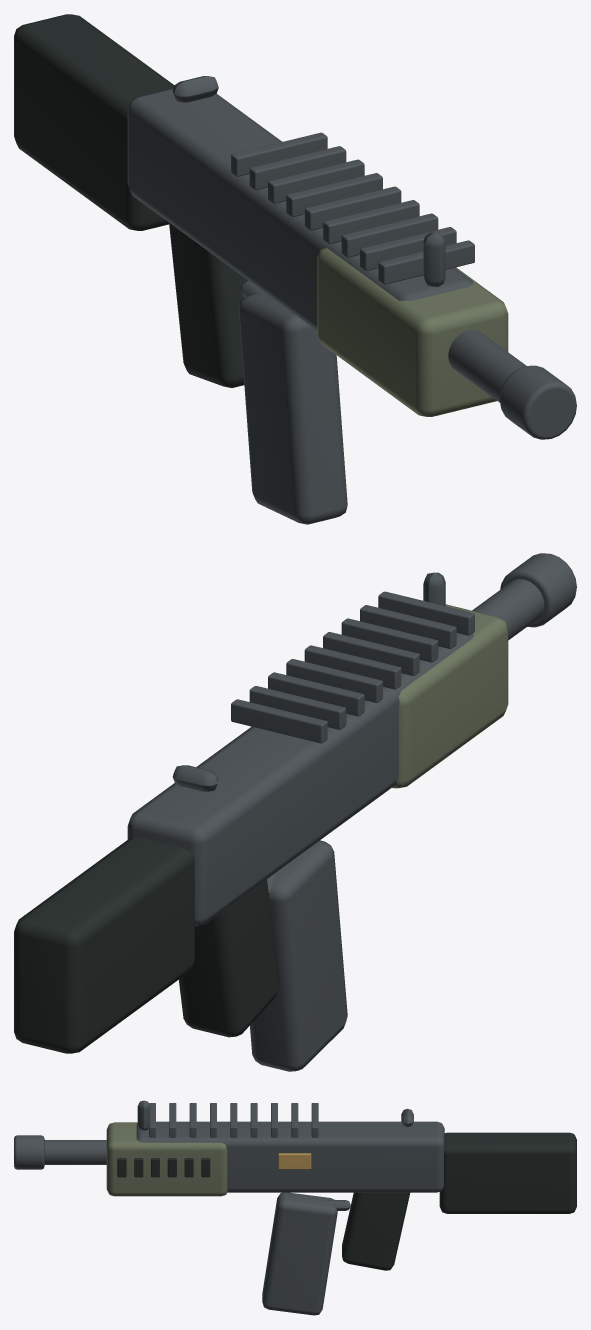
Rendered from carbine.glb.
3 renders of one model, top to bottom at view 1: azimuth 30°, elevation 25°; view 2: azimuth 150°, elevation 25°; view 3: azimuth 270°, elevation 25°, orthographic. The views are drawn at different scales.
Parts seen in each view (by area): view 1: receiver, stock, magazine, handguard, grip, muzzle, barrel, rail_2, rail_4, rail_7, rail_8, rail_3 (+6 smaller); view 2: receiver, stock, magazine, handguard, grip, muzzle, rail_8, barrel, rail_2, rail_7, rail_4, rail_6 (+6 smaller); view 3: receiver, stock, magazine, handguard, grip, barrel, muzzle, ejection_port, front_sight.
Part boxes in pixels (x1,y1,x2,y2): receiver: [127, 88, 473, 330]; stock: [14, 14, 174, 230]; magazine: [238, 294, 347, 524]; handguard: [317, 248, 508, 416]; grip: [169, 223, 247, 387]; muzzle: [499, 365, 576, 439]; barrel: [448, 330, 526, 402]; rail_2: [341, 213, 438, 257]; rail_4: [304, 186, 401, 230]; rail_7: [249, 146, 346, 190]; rail_8: [231, 132, 327, 176]; rail_3: [323, 200, 419, 243]; receiver: [127, 633, 473, 925]; stock: [14, 837, 194, 1053]; magazine: [250, 840, 347, 1071]; handguard: [392, 604, 508, 788]; grip: [179, 879, 279, 1037]; muzzle: [500, 553, 576, 627]; rail_8: [231, 699, 327, 743]; barrel: [472, 579, 544, 640]; rail_2: [341, 618, 438, 662]; rail_7: [249, 686, 346, 729]; rail_4: [304, 645, 401, 689]; rail_6: [268, 672, 364, 716]; receiver: [136, 1121, 444, 1192]; stock: [439, 1132, 576, 1213]; magazine: [262, 1192, 337, 1315]; handguard: [106, 1122, 227, 1196]; grip: [342, 1192, 409, 1270]; barrel: [44, 1140, 106, 1164]; muzzle: [14, 1135, 44, 1169]; ejection_port: [278, 1153, 311, 1169]; front_sight: [137, 1100, 150, 1130].
Size of the model in its own units: 0.121 by 0.4576 by 1.11.
